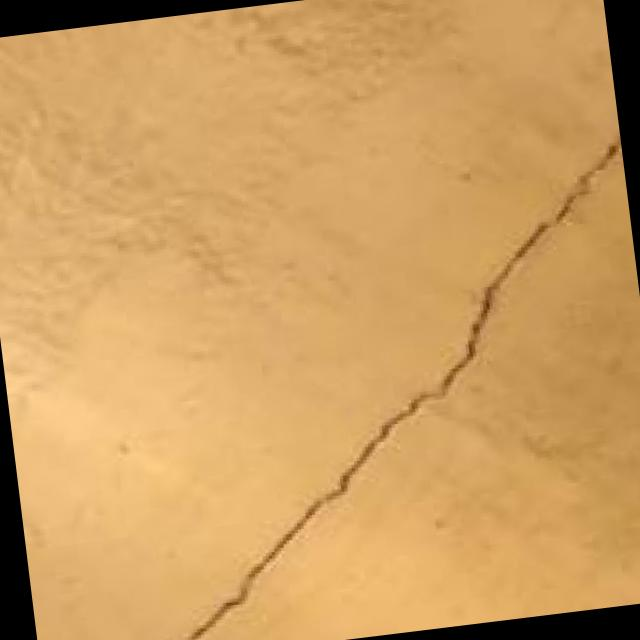crack: (115, 116, 640, 640)
